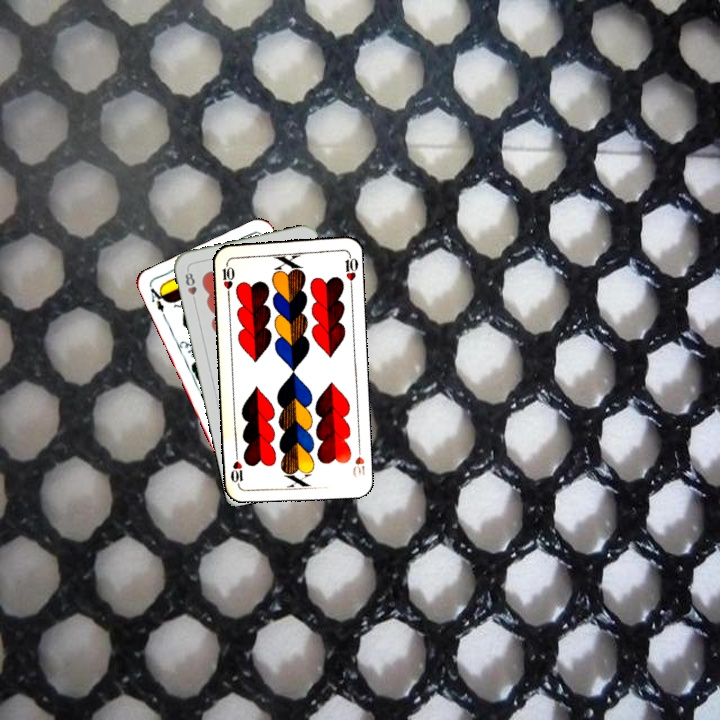EA: (146, 283, 169, 322)
H10: (218, 258, 237, 298), (348, 440, 367, 480)
H8: (181, 266, 199, 306)
